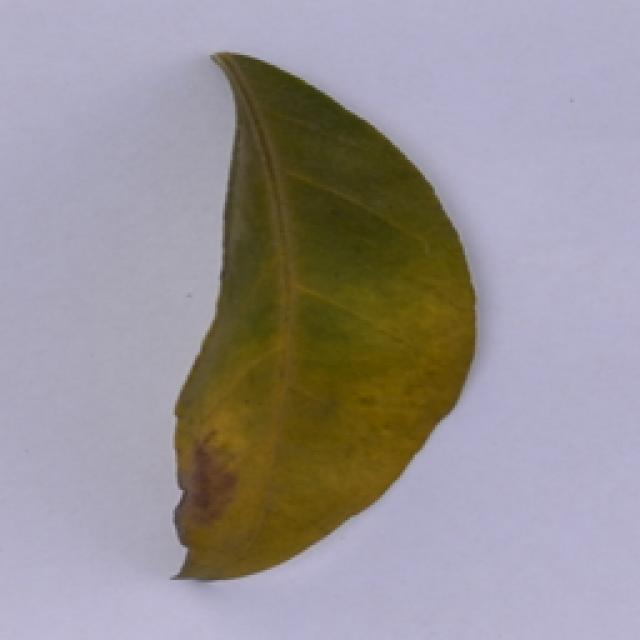greening: (152, 50, 482, 589)
